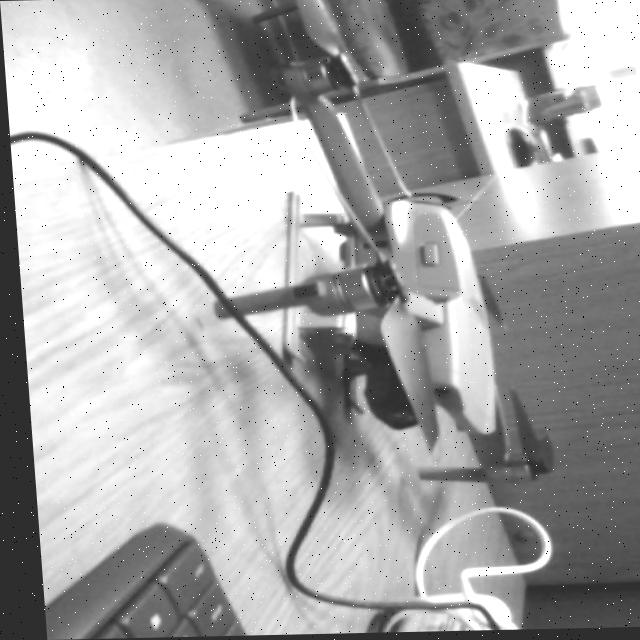drone: (190, 0, 553, 535)
